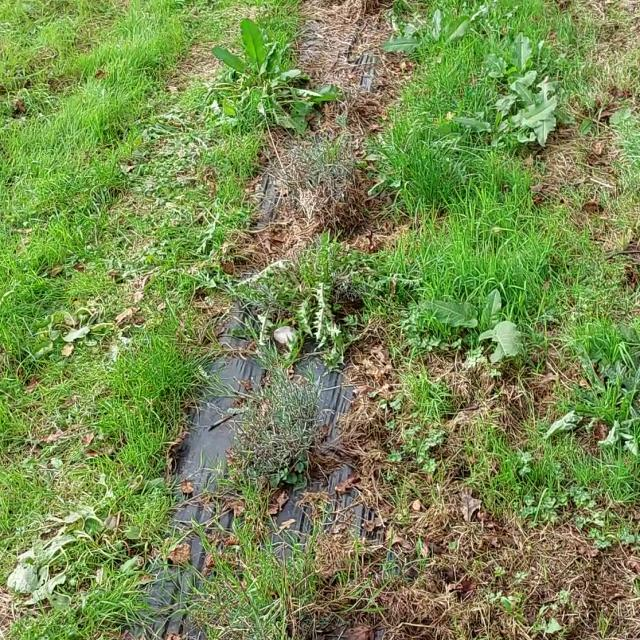organic waste: (196, 27, 374, 137), (409, 264, 548, 387), (440, 77, 600, 171), (0, 509, 142, 601), (472, 17, 558, 105), (383, 0, 484, 64)
